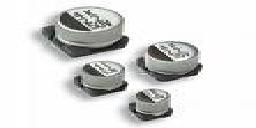Electrolytic Capacitor: (43, 4, 127, 52)
